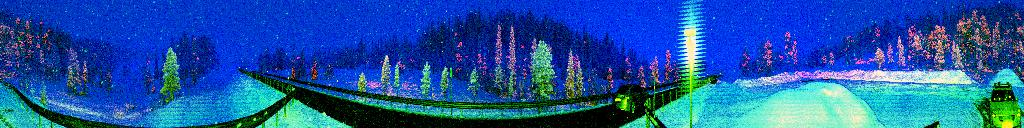pole: (653, 76, 656, 98), (286, 70, 290, 84)
